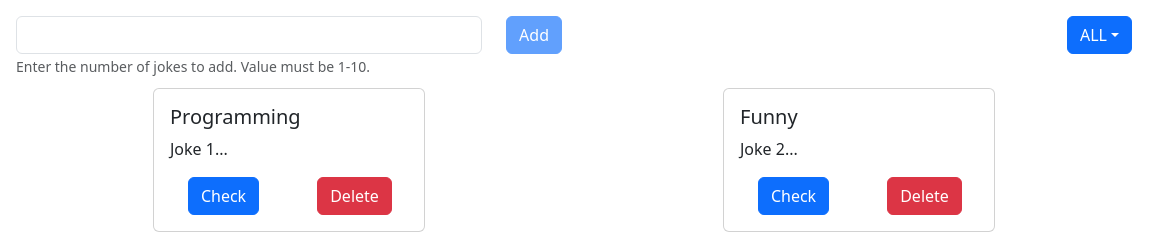
Test: Test delete button on Joke › should delete joke
Click the button with test id "deleteButton1". click: point(355, 196)
box: [317,177,392,215]
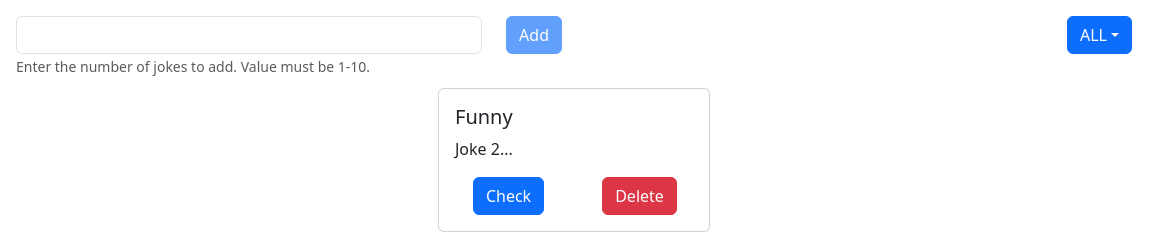
Expected: the number of elements with test id "Joke" is 1, [438,88,710,232]
